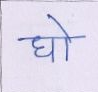e_matra: (47, 14, 72, 36)
